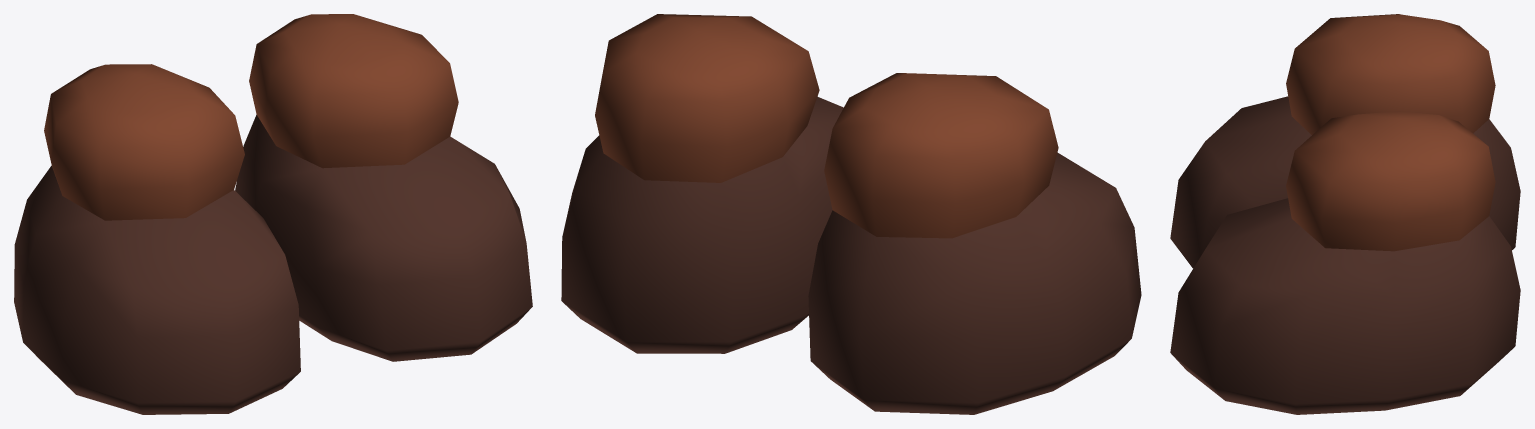
Rendered from Shoes_44.fbx.
3 renders of one model, left to right at view 1: azimuth 30°, elevation 25°; view 2: azimuth 150°, elevation 25°; view 3: azimuth 270°, elevation 25°, orthographic. The views are drawn at different scales.
Visible parts, largest first — view 1: Shoes_44; view 2: Shoes_44; view 3: Shoes_44.
Part boxes in pixels (bbox=[...]): Shoes_44: bbox=[14, 14, 532, 414]; Shoes_44: bbox=[561, 14, 1141, 414]; Shoes_44: bbox=[1170, 14, 1520, 414].
Size of the model in its own units: 45.59 by 23.88 by 31.28.
